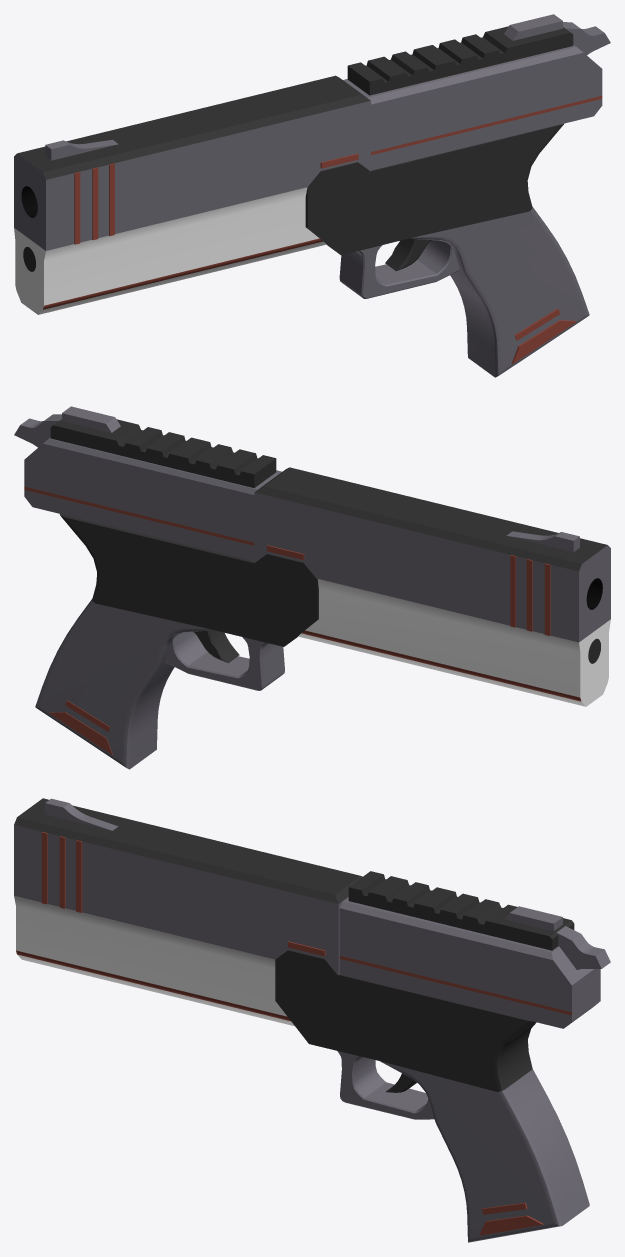
3 views of the same model, one above another, from view 1: azimuth 30°, elevation 25°; view 2: azimuth 150°, elevation 25°; view 3: azimuth 330°, elevation 25° (orthographic).
Parts seen in each view (by area): view 1: pCube17; view 2: pCube17; view 3: pCube17.
Boxes of the visible parts, x1=… form: pCube17: x1=14, y1=14, x2=610, y2=377; pCube17: x1=14, y1=406, x2=610, y2=769; pCube17: x1=14, y1=798, x2=610, y2=1242.
Bounding box in the file's own units: 7.9 × 4.34 × 0.7932.
